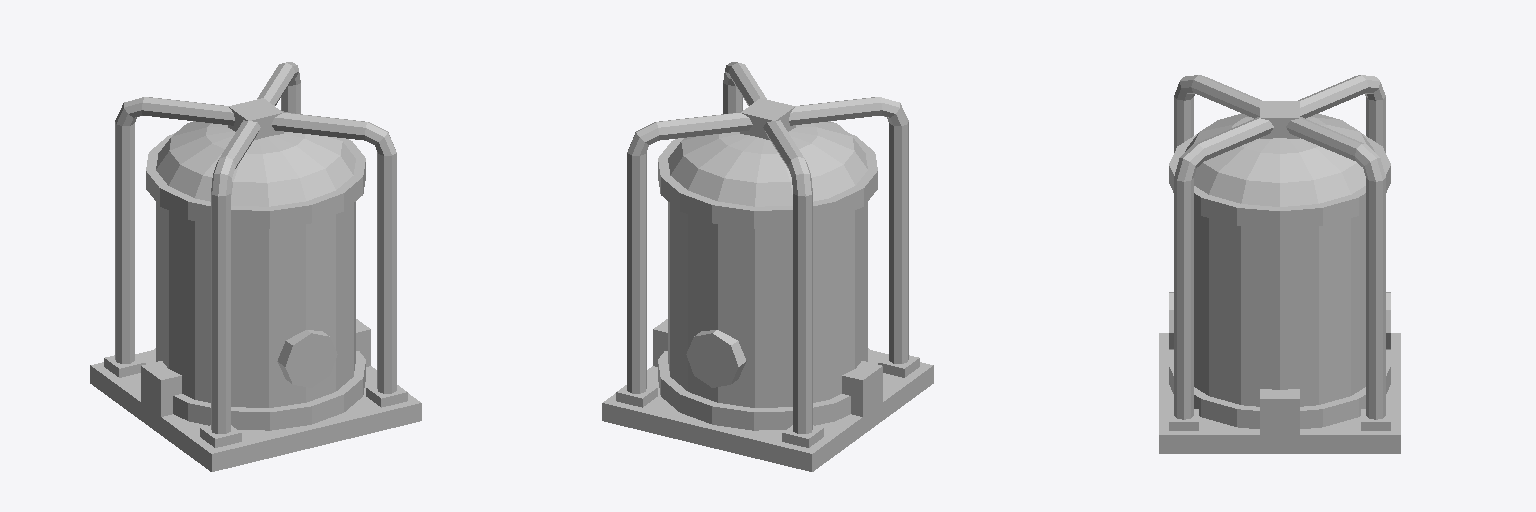
File: boiler.obj
3 renders of one model, left to right at view 1: azimuth 30°, elevation 25°; view 2: azimuth 150°, elevation 25°; view 3: azimuth 270°, elevation 25°, orthographic.
Visible parts, largest first — view 1: Plane; view 2: Plane; view 3: Plane.
Part boxes in pixels (left/top/right/bottom): Plane: left=90, top=62, right=421, bottom=471; Plane: left=602, top=62, right=933, bottom=471; Plane: left=1159, top=75, right=1400, bottom=453.
Size of the model in its own units: 3 by 4 by 3.